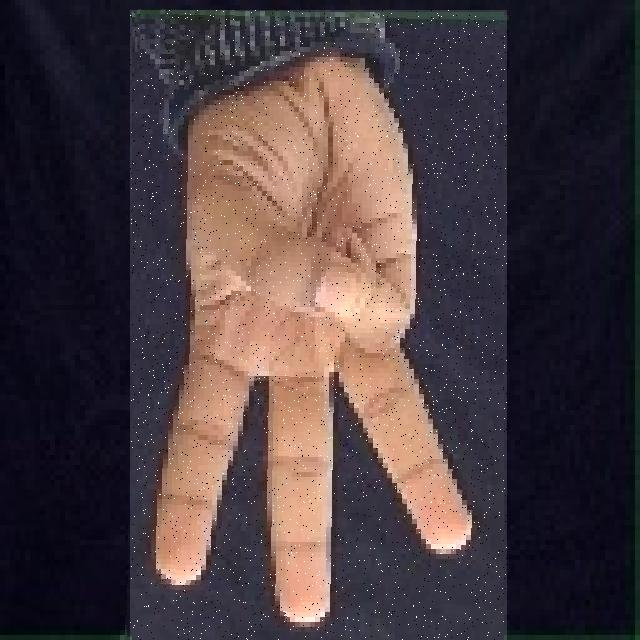Please: (130, 10, 507, 640)
